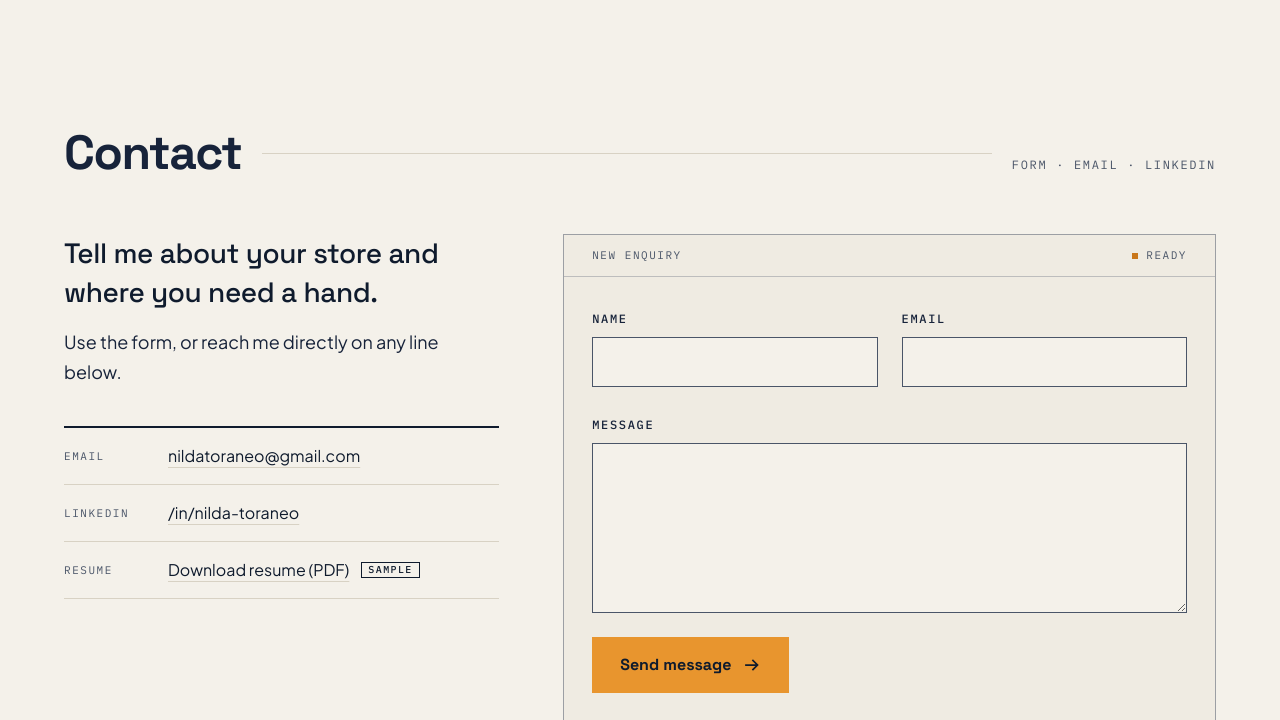
Test: Contact › confirms and focuses the success message once the service accepts
Type "Ana Reyes" into the field labelled "Name" at (735, 362), box [592,337,878,387]
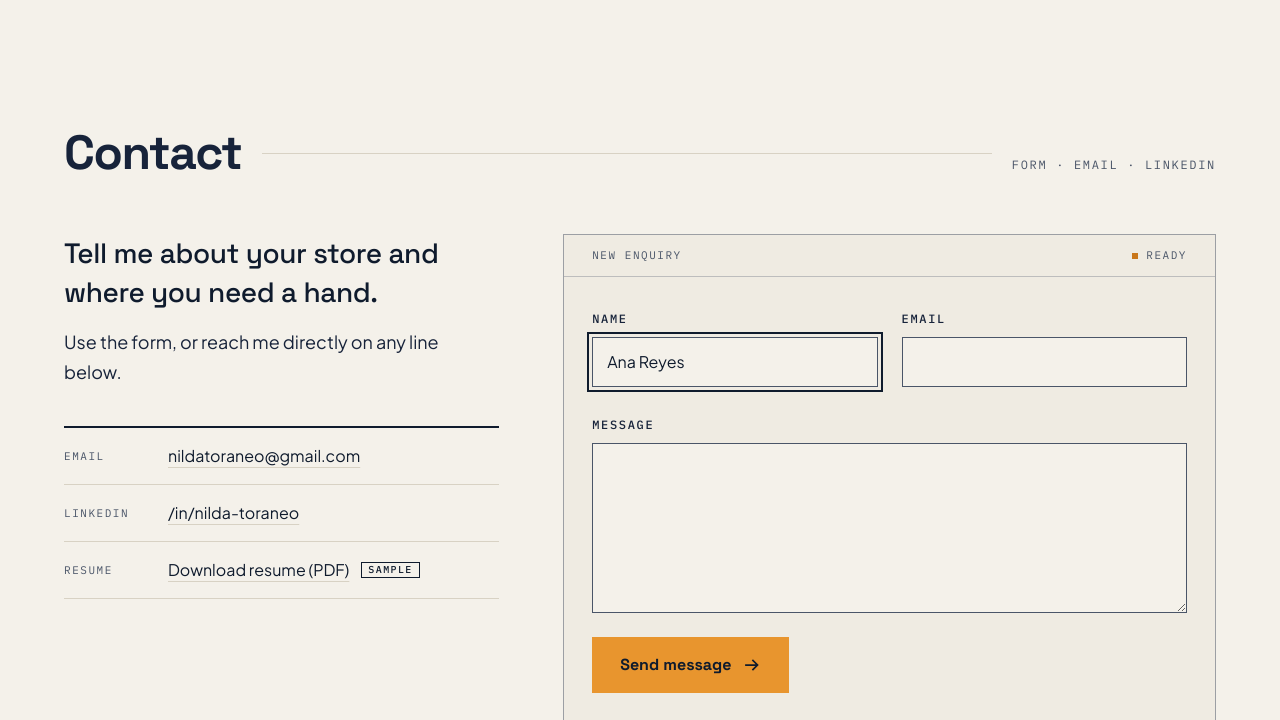
Type "ana@example.com" into the field labelled "Email" at (1044, 362), box [902,337,1187,387]
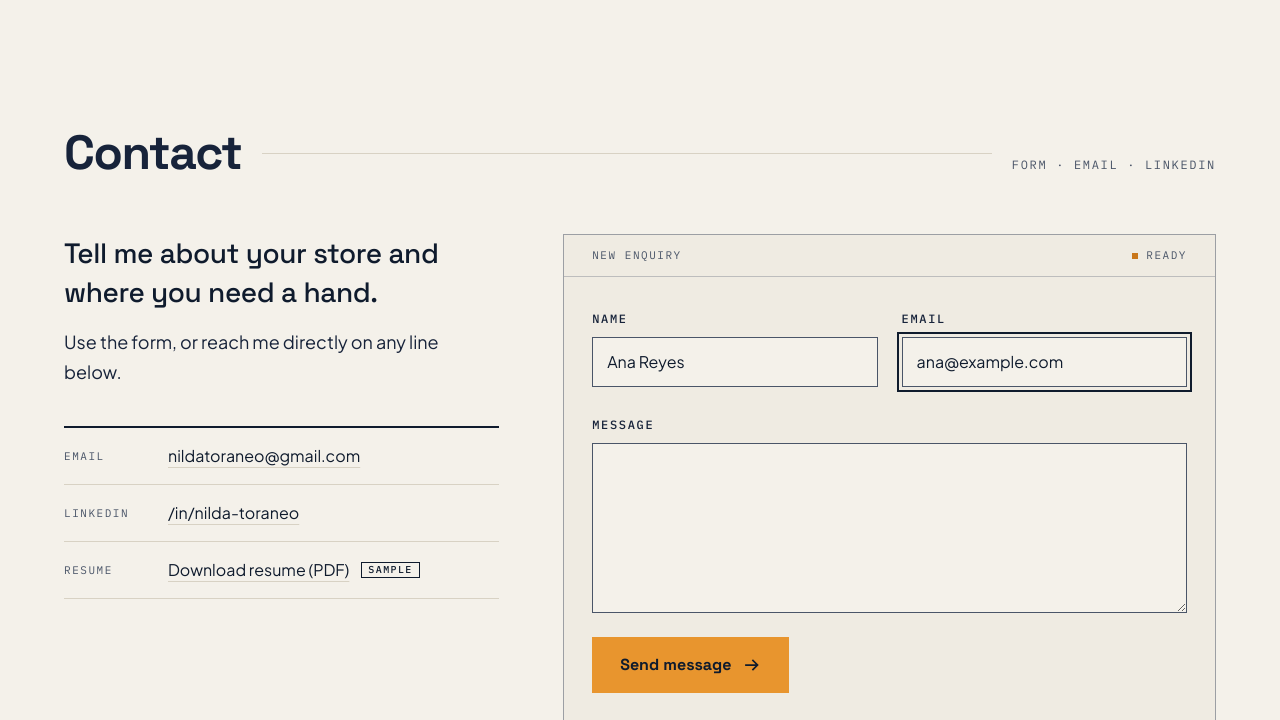
Type "I need help with my PPC." into the text box labelled "Message" at (890, 528), box [592,443,1187,613]
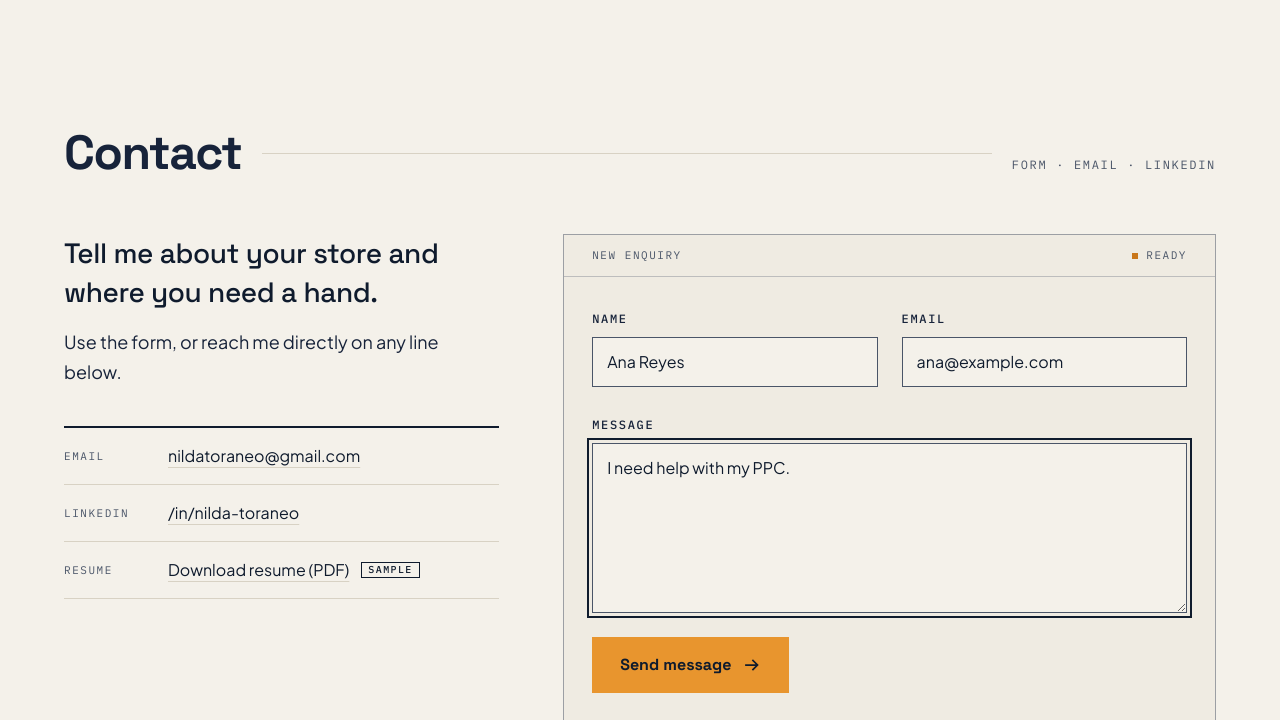
Click the button "Send message" at (691, 665), box [592,637,789,693]
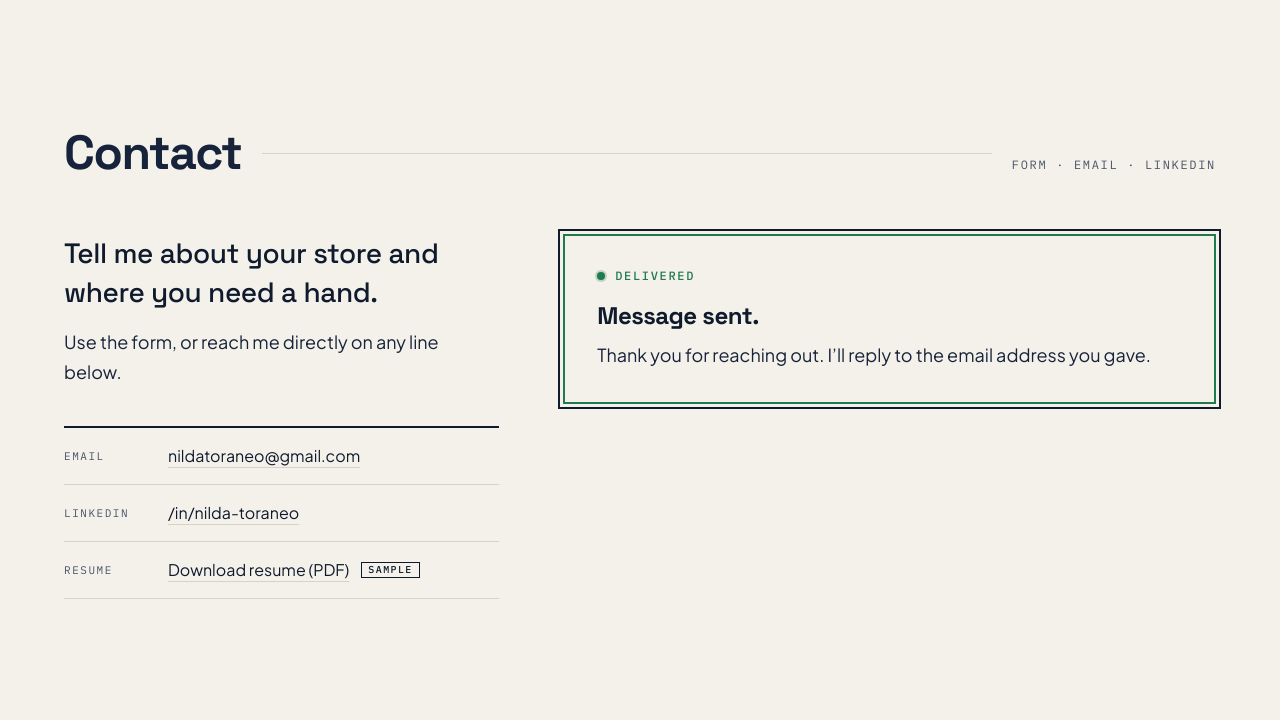
Check: the message shows "Message sent", box [597,300,759,331]
